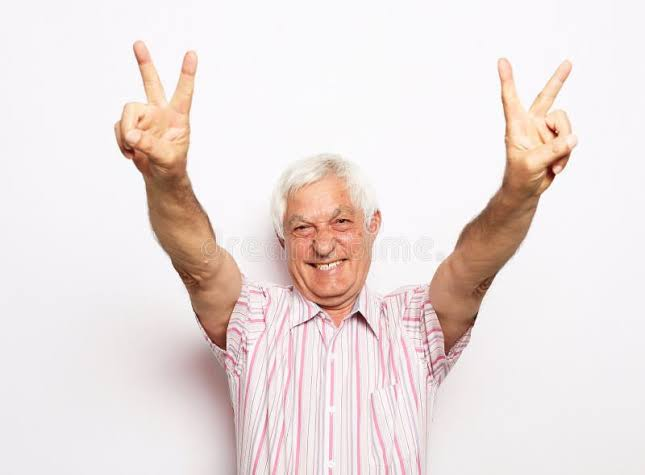peace_sign: (495, 36, 580, 193), (111, 37, 198, 180)
